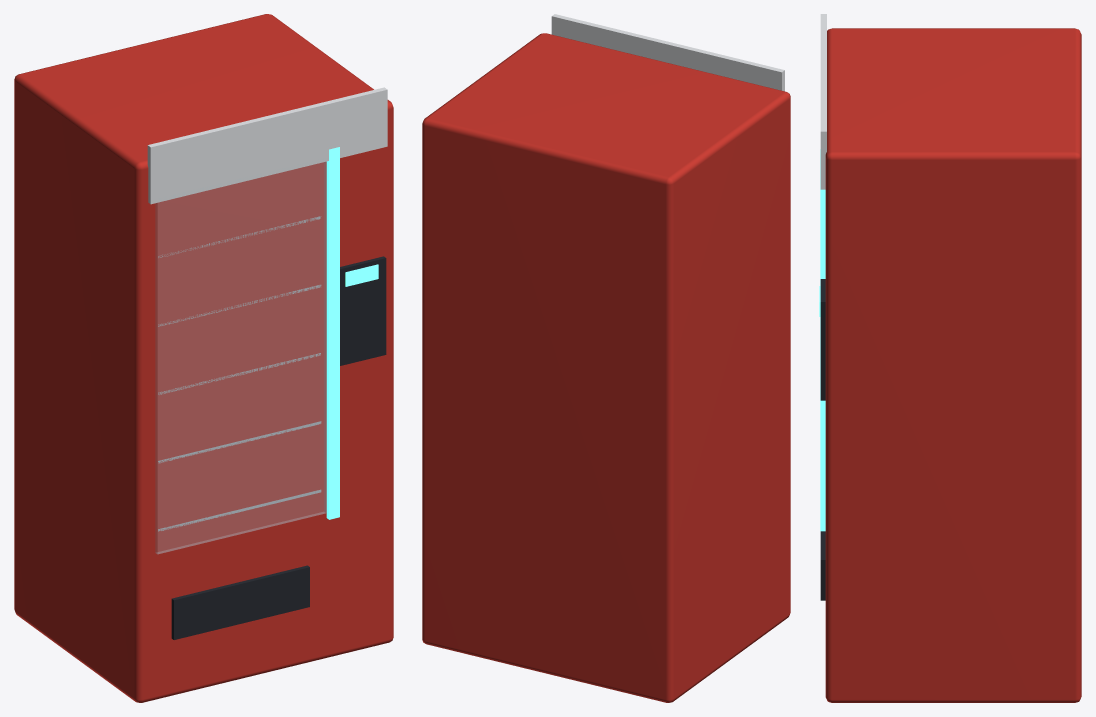
The model's file is VendingMachine.fbx.
3 views of the same model, side by side, from view 1: azimuth 30°, elevation 25°; view 2: azimuth 150°, elevation 25°; view 3: azimuth 270°, elevation 25° (orthographic). The views are drawn at different scales.
Visible parts, largest first — view 1: VendingMachineBody, Glow; view 2: VendingMachineBody; view 3: VendingMachineBody, Glow.
Boxes of the visible parts, x1=… form: VendingMachineBody: x1=14, y1=14, x2=393, y2=702; Glow: x1=326, y1=147, x2=339, y2=519; VendingMachineBody: x1=422, y1=14, x2=790, y2=702; VendingMachineBody: x1=819, y1=14, x2=1081, y2=702; Glow: x1=820, y1=149, x2=825, y2=531.
Size of the model in its own units: 0.95 by 1.96 by 0.819.
